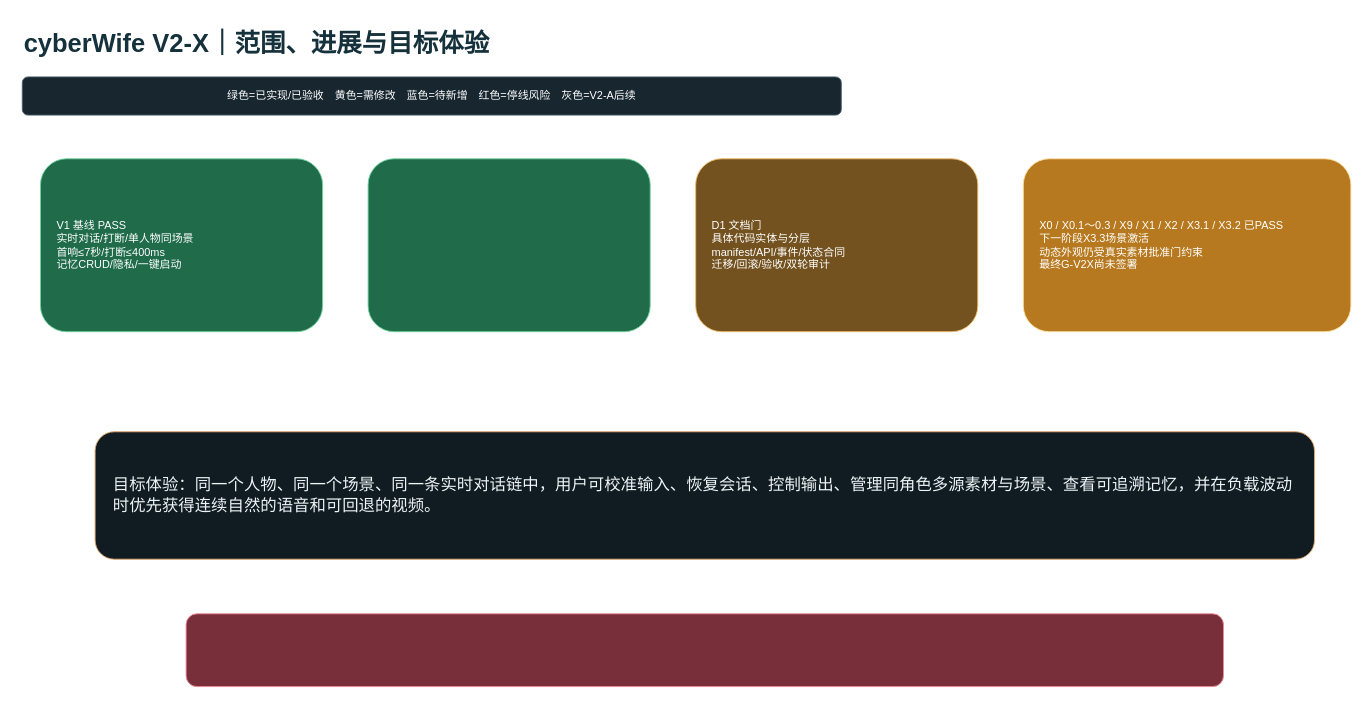
The diagram is 1367 pixels wide and 703 high, and some of its shapes have lost their labels. Each missing label, with the centre of its shape:
"D0 PASS 交互原型+真实基线截图 组件/旅程/架构概念对齐 项目所有者批准 G-V2X-D0" goes at (x=508, y=245).
"停线：双人物/旧轮复活/未确认视觉事实固化/私密缓存/实时与生成模型双驻/突破14GB RAM或22GB VRAM/V1性能回退" goes at (x=704, y=650).
